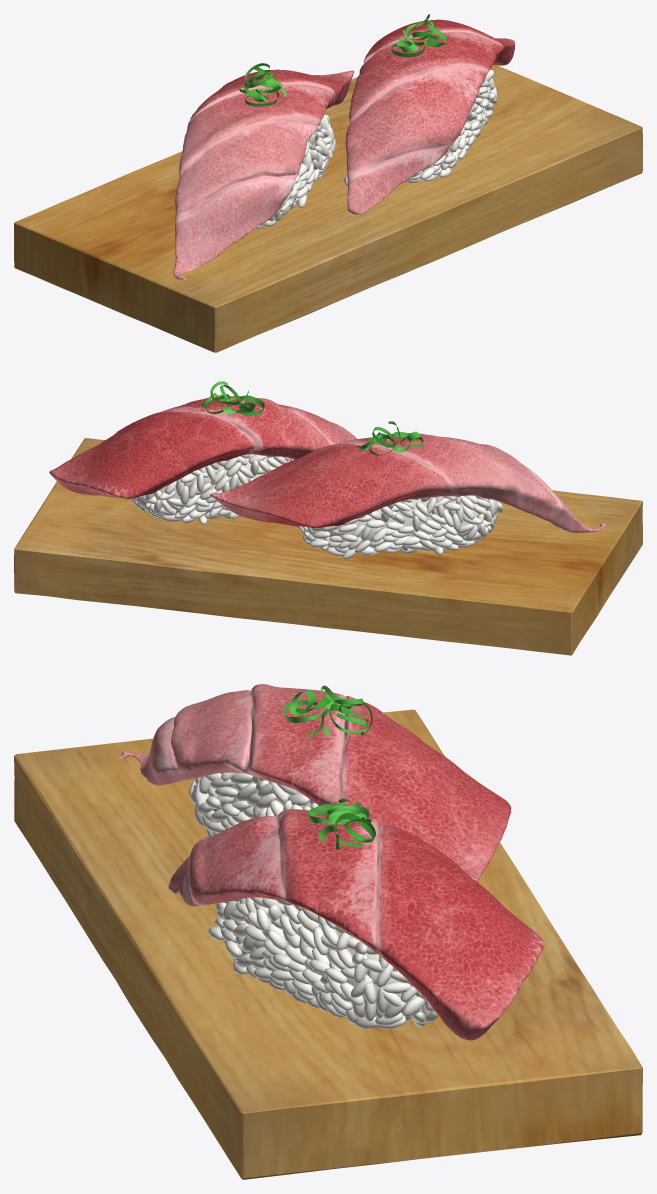
The model's file is sushi.glb.
3 renders of one model, top to bottom at view 1: azimuth 30°, elevation 25°; view 2: azimuth 150°, elevation 25°; view 3: azimuth 270°, elevation 25°, orthographic. The views are drawn at different scales.
Visible parts, largest first — view 1: wood, toro2, toro1, rice1, rice2, shallot1, shallot2; view 2: wood, toro2, toro1, rice2, rice1, shallot1, shallot2; view 3: wood, toro1, toro2, rice1, rice2, shallot2, shallot1.
Part boxes in pixels (left/top/right/bottom): wood: left=14, top=65, right=642, bottom=352; toro2: left=173, top=69, right=354, bottom=279; toro1: left=345, top=19, right=515, bottom=214; rice1: left=344, top=70, right=496, bottom=186; rice2: left=255, top=114, right=335, bottom=228; shallot1: left=391, top=14, right=447, bottom=57; shallot2: left=239, top=63, right=286, bottom=106; wood: left=14, top=438, right=642, bottom=655; toro2: left=210, top=433, right=606, bottom=532; toro1: left=49, top=396, right=357, bottom=498; rice2: left=297, top=495, right=503, bottom=559; rice1: left=131, top=454, right=293, bottom=524; shallot1: left=200, top=381, right=264, bottom=415; shallot2: left=357, top=421, right=423, bottom=455; wood: left=14, top=709, right=642, bottom=1179; toro1: left=168, top=809, right=544, bottom=1040; toro2: left=118, top=684, right=511, bottom=882; rice1: left=208, top=897, right=438, bottom=1029; rice2: left=189, top=772, right=318, bottom=836; shallot2: left=283, top=685, right=372, bottom=736; shallot1: left=308, top=798, right=375, bottom=850.
Bounding box in the file's own units: 13.66 × 4.02 × 8.99.
Materials: 4 (4 with a texture image).
